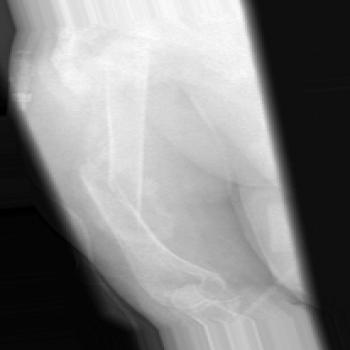Fracture: (82, 159, 151, 219)
